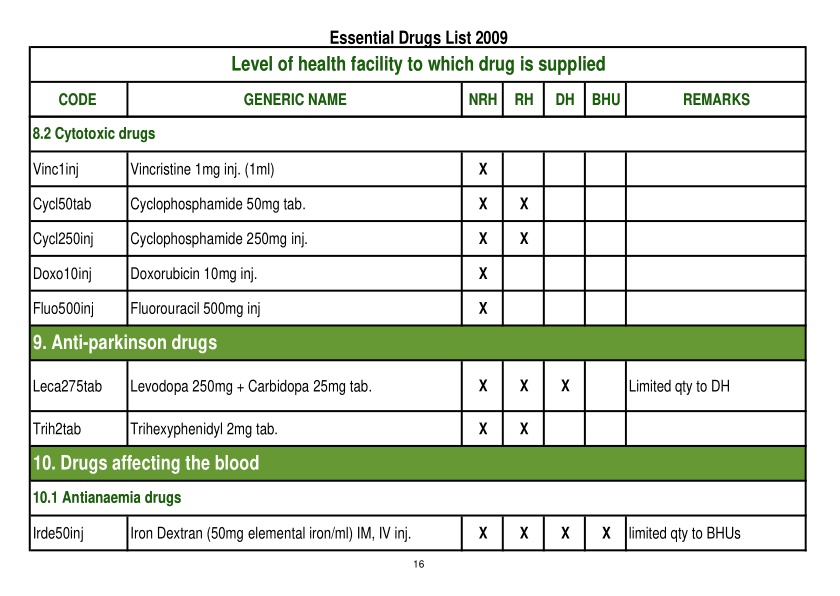merged_cells: (28, 45, 807, 553)
